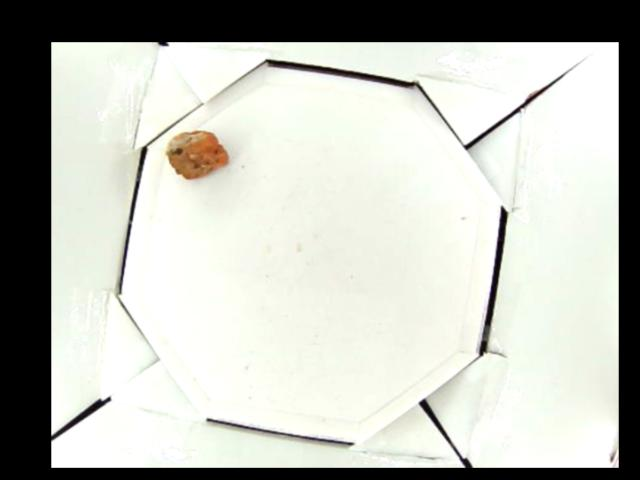Brisk: (165, 129, 231, 178)
